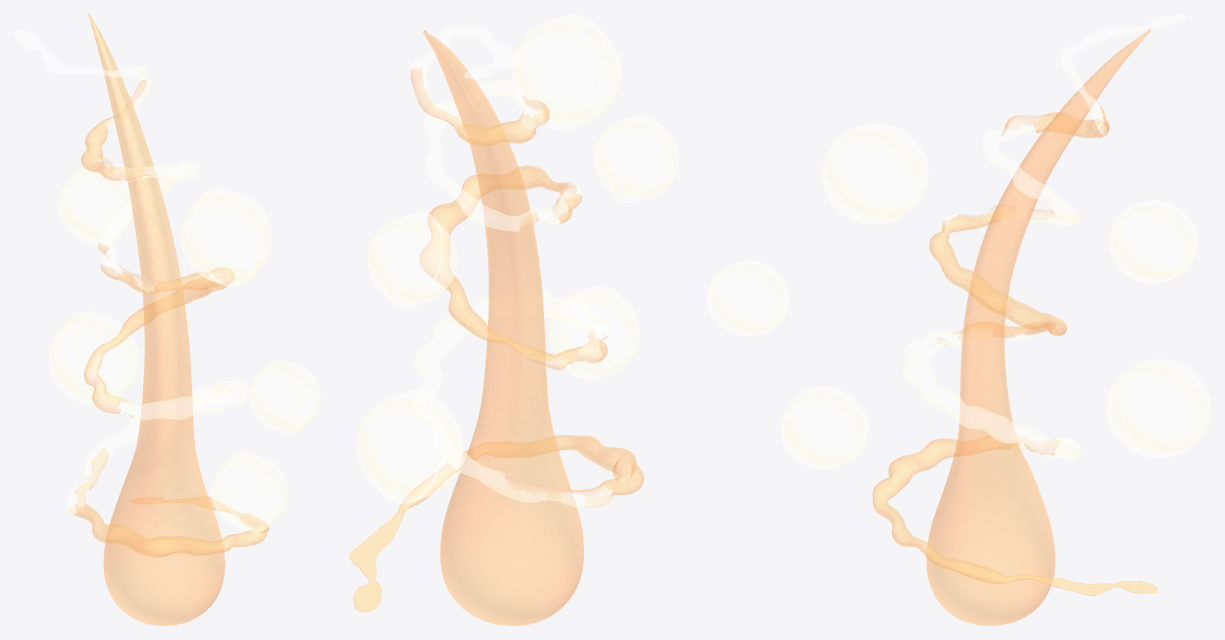
The model's file is liquid-drop.glb.
3 renders of one model, left to right at view 1: azimuth 30°, elevation 25°; view 2: azimuth 150°, elevation 25°; view 3: azimuth 270°, elevation 25°, orthographic. The views are drawn at different scales.
Visible parts, largest first — view 1: tripo_part_6, tripo_part_12, tripo_part_2, tripo_part_17, tripo_part_5, tripo_part_7, tripo_part_1, tripo_part_16, tripo_part_0, tripo_part_9, tripo_part_4, tripo_part_10 (+3 smaller); view 2: tripo_part_6, tripo_part_5, tripo_part_2, tripo_part_17, tripo_part_7, tripo_part_12, tripo_part_16, tripo_part_1, tripo_part_9, tripo_part_0, tripo_part_4, tripo_part_10 (+3 smaller); view 3: tripo_part_6, tripo_part_2, tripo_part_17, tripo_part_12, tripo_part_7, tripo_part_16, tripo_part_1, tripo_part_5, tripo_part_0, tripo_part_4, tripo_part_9, tripo_part_14 (+2 smaller).
Boxes of the visible parts, bbox=[...] form: tripo_part_6: bbox=[103, 237, 224, 625]; tripo_part_12: bbox=[87, 15, 179, 331]; tripo_part_2: bbox=[180, 188, 272, 286]; tripo_part_17: bbox=[49, 311, 138, 407]; tripo_part_5: bbox=[67, 352, 249, 513]; tripo_part_7: bbox=[70, 447, 269, 557]; tripo_part_1: bbox=[211, 451, 287, 532]; tripo_part_16: bbox=[59, 165, 132, 246]; tripo_part_0: bbox=[249, 359, 320, 434]; tripo_part_9: bbox=[98, 159, 199, 292]; tripo_part_4: bbox=[101, 263, 234, 295]; tripo_part_10: bbox=[84, 277, 228, 397]; tripo_part_6: bbox=[440, 188, 583, 625]; tripo_part_5: bbox=[412, 289, 612, 507]; tripo_part_2: bbox=[512, 14, 620, 131]; tripo_part_17: bbox=[356, 390, 462, 504]; tripo_part_7: bbox=[349, 435, 643, 612]; tripo_part_12: bbox=[423, 32, 525, 290]; tripo_part_16: bbox=[368, 212, 457, 308]; tripo_part_1: bbox=[549, 285, 639, 380]; tripo_part_9: bbox=[423, 80, 581, 231]; tripo_part_0: bbox=[594, 114, 678, 202]; tripo_part_4: bbox=[419, 165, 582, 269]; tripo_part_10: bbox=[423, 213, 597, 370]; tripo_part_6: bbox=[926, 218, 1055, 625]; tripo_part_2: bbox=[822, 123, 928, 224]; tripo_part_17: bbox=[1106, 359, 1210, 458]; tripo_part_12: bbox=[985, 30, 1151, 300]; tripo_part_7: bbox=[872, 434, 1158, 595]; tripo_part_16: bbox=[1109, 200, 1197, 283]; tripo_part_1: bbox=[780, 386, 868, 468]; tripo_part_5: bbox=[903, 330, 1080, 460]; tripo_part_0: bbox=[707, 260, 788, 335]; tripo_part_4: bbox=[929, 205, 1041, 329]; tripo_part_9: bbox=[944, 114, 1078, 226]; tripo_part_14: bbox=[1060, 14, 1186, 135].
Bounding box in the file's own units: 0.3352 × 0.9812 × 0.7607.
